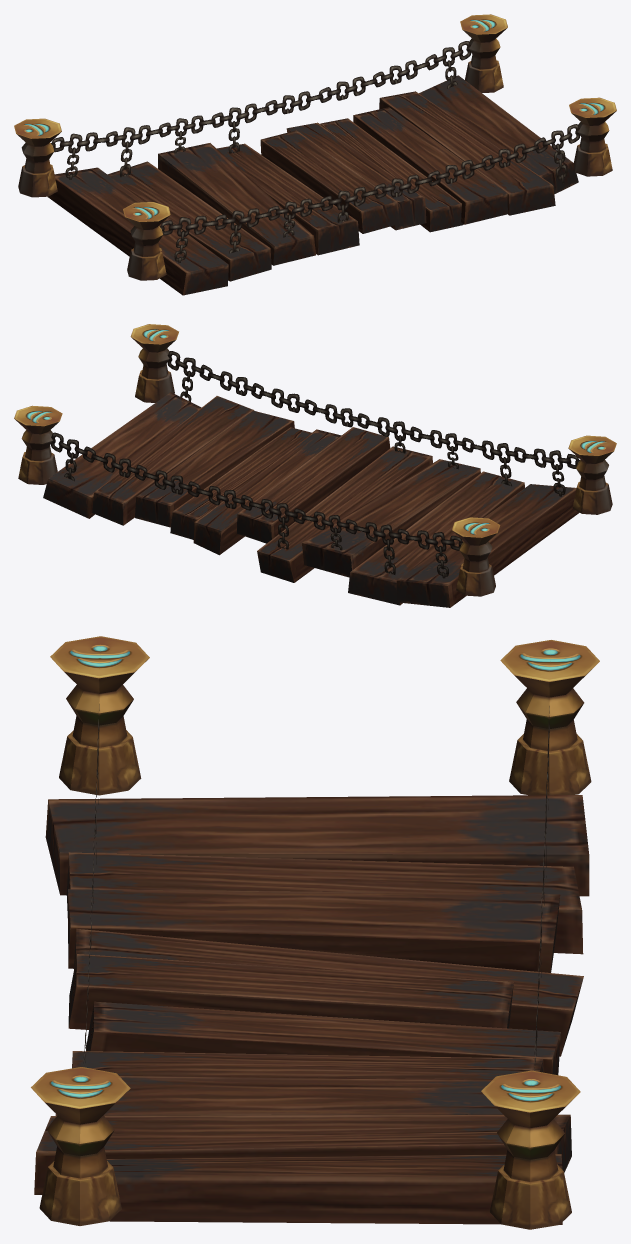
Rendered from Qiao02.FBX.
The picture shows the model from 3 angles, top to bottom: view 1: azimuth 30°, elevation 25°; view 2: azimuth 150°, elevation 25°; view 3: azimuth 270°, elevation 25°; orthographic projection. The views are drawn at different scales.
Visible parts, largest first — view 1: Qiao02; view 2: Qiao02; view 3: Qiao02.
Part boxes in pixels (x1,y1,x2,y2): Qiao02: (14, 14, 616, 295); Qiao02: (14, 324, 616, 607); Qiao02: (31, 636, 599, 1229).
Bounding box in the file's own units: 323 × 59.78 × 163.
